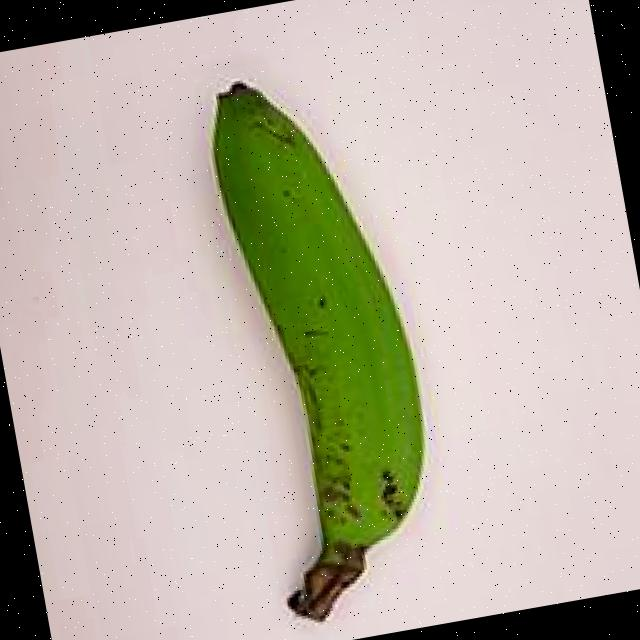Raw: (117, 34, 474, 640)
